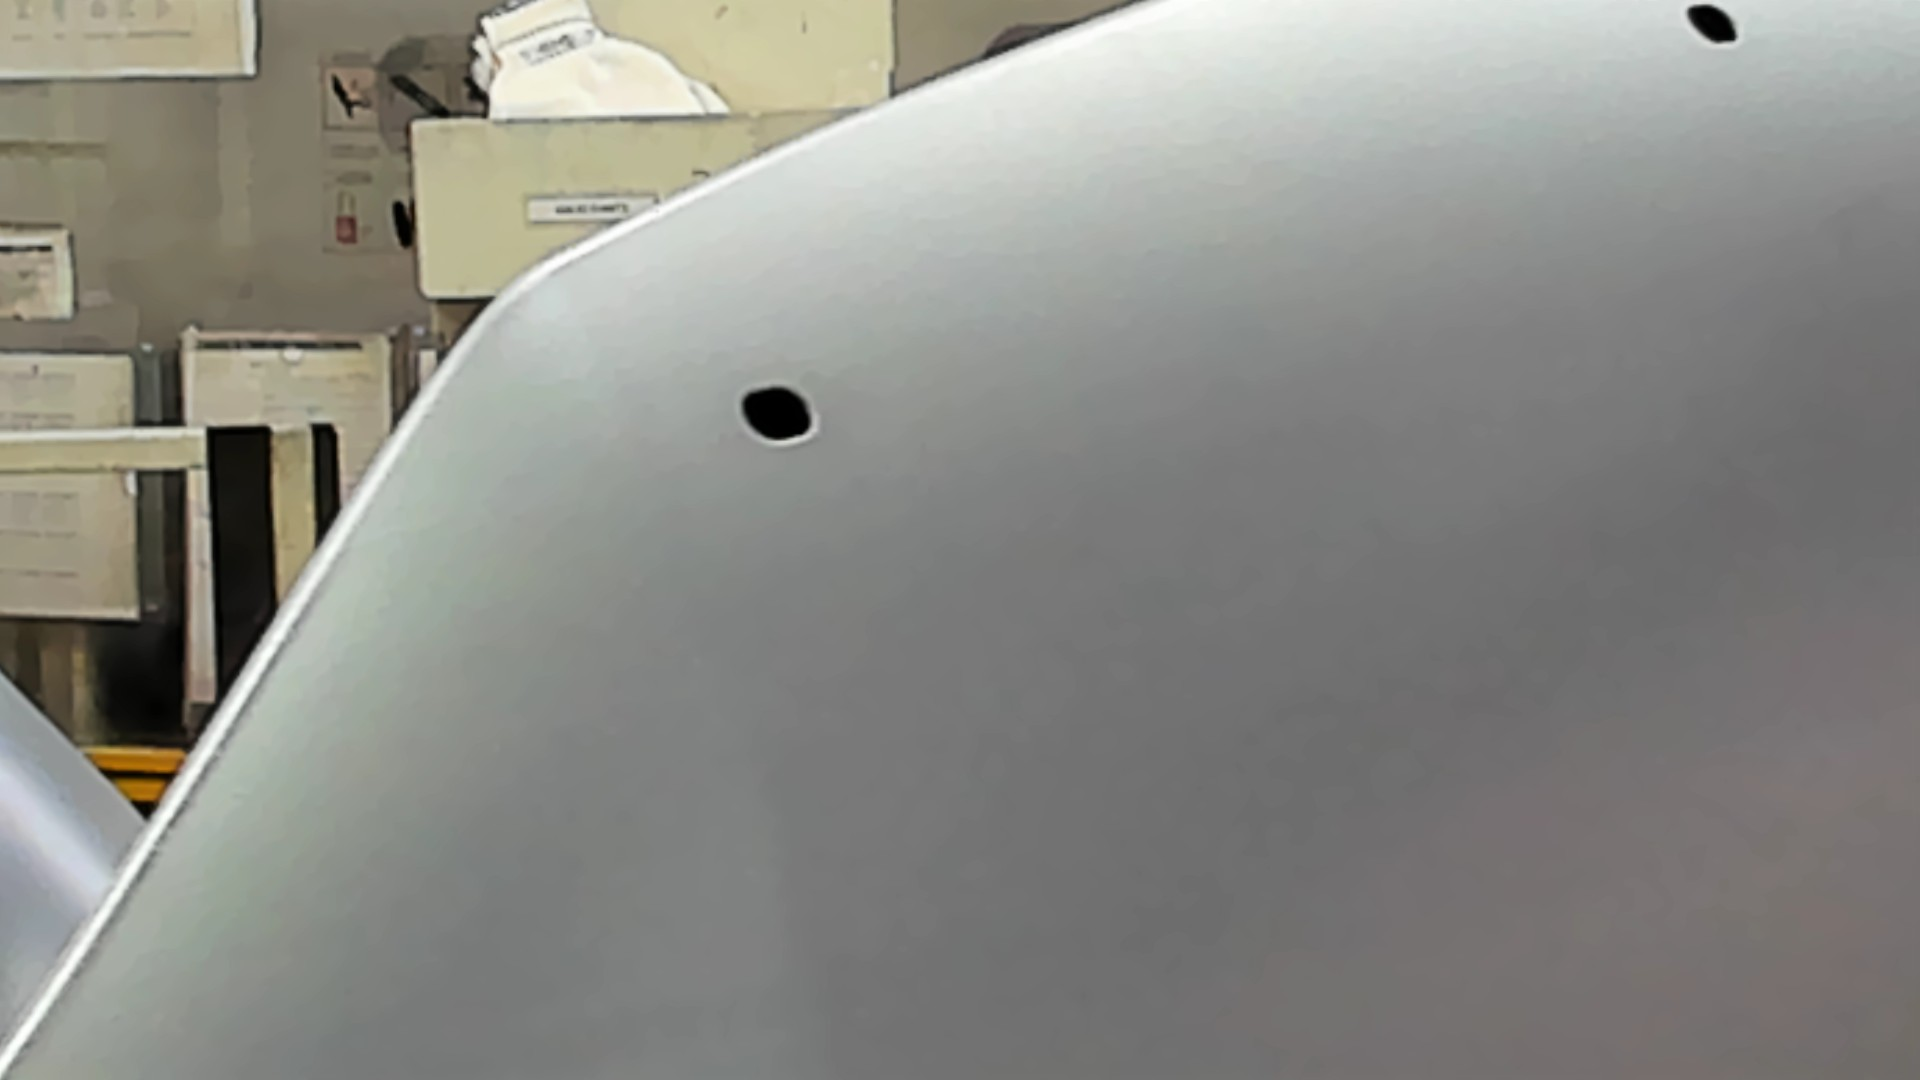amorfo: (729, 382, 827, 450), (1683, 1, 1749, 53)
